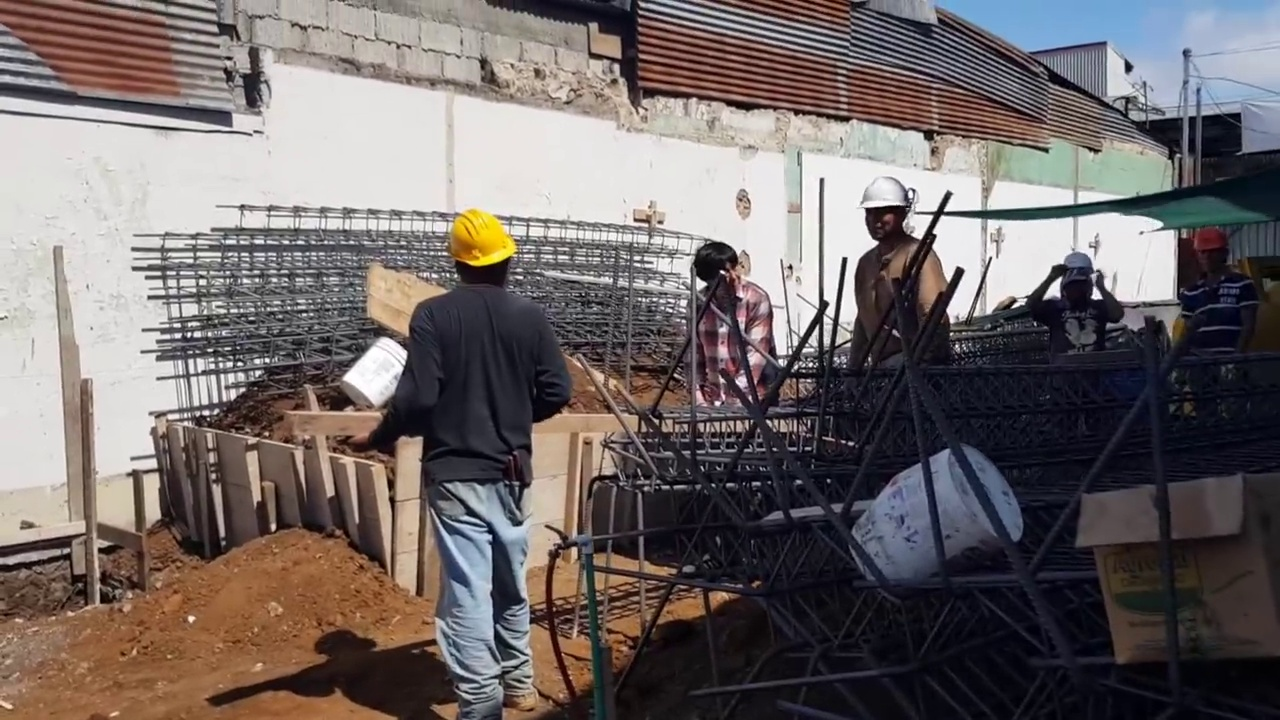helmet: (437, 212, 518, 278), (857, 176, 914, 213), (1053, 249, 1102, 276), (1191, 227, 1229, 253)
helmet-off: (692, 242, 741, 300)
helmet-on: (436, 207, 519, 294), (858, 177, 914, 249), (1052, 249, 1100, 307), (1191, 226, 1230, 283)
person: (337, 209, 573, 720), (842, 175, 964, 369), (1170, 224, 1264, 410), (685, 238, 778, 413), (1031, 248, 1121, 353)
